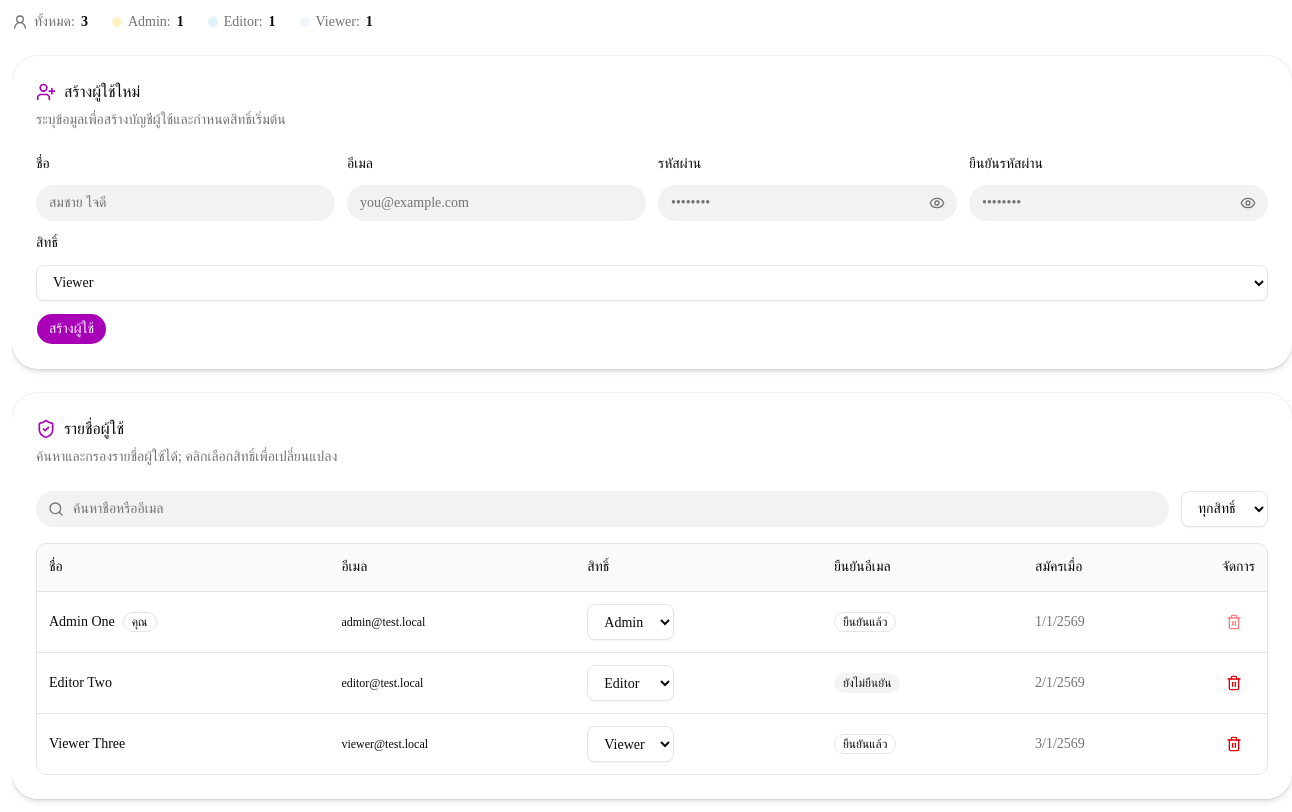
Test: AdminClient — search & filter › clears results back to all rows
Type "Admin" into the field labelled "ค้นหาชื่อหรืออีเมล".
click(602, 508); type("Admin")  # box 36,490 -> 1169,526
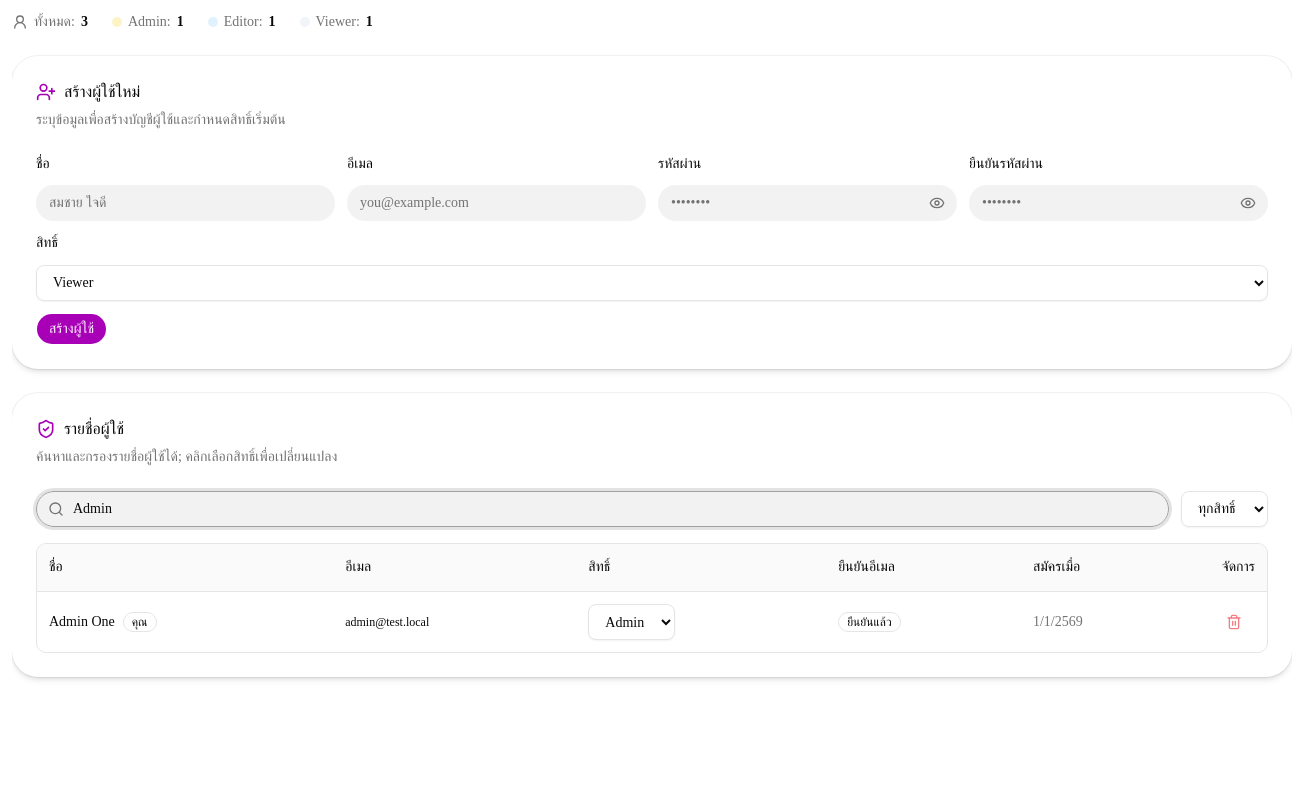
Check: the text "editor@test.local" is gone
Clear the field named "ค้นหาชื่อหรืออีเมล" at (602, 508), box 36,490 -> 1169,526
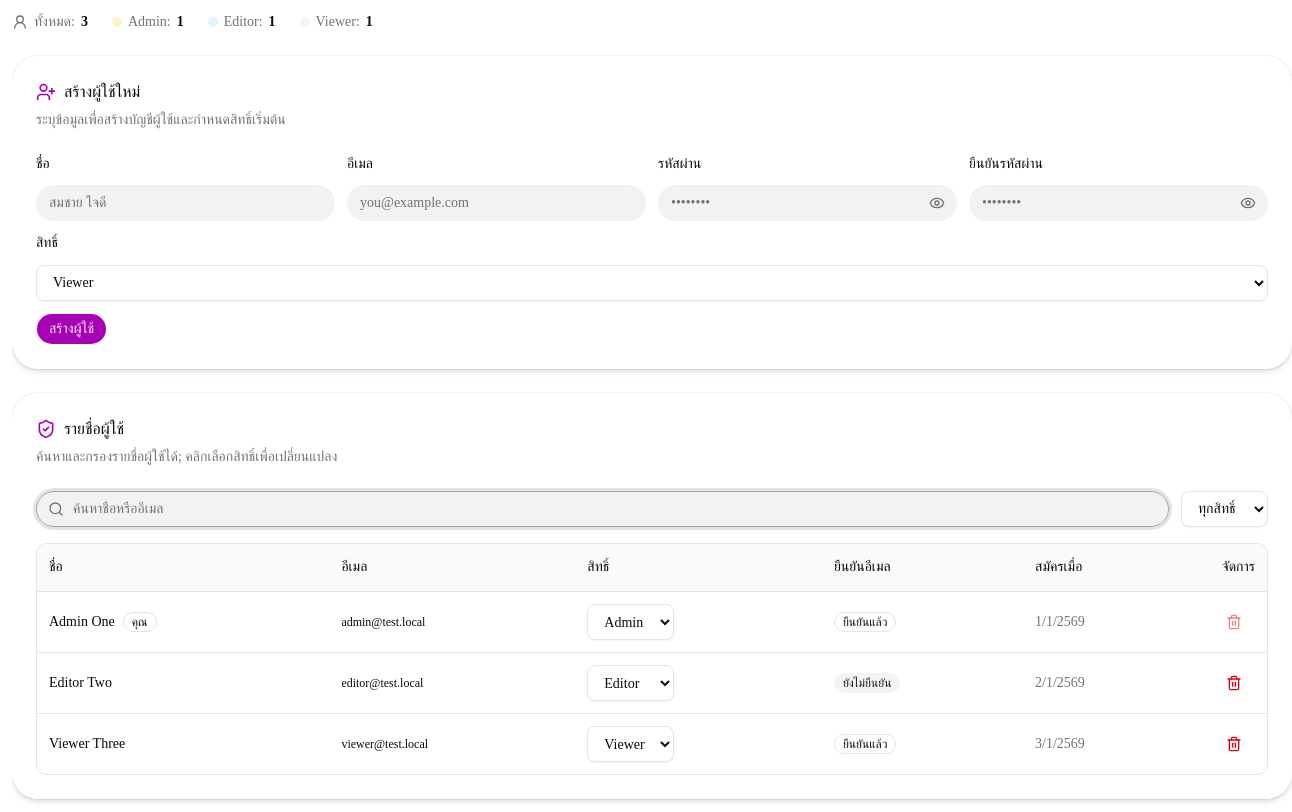
Check: the text "editor@test.local" is shown, box 329,652 -> 575,714
